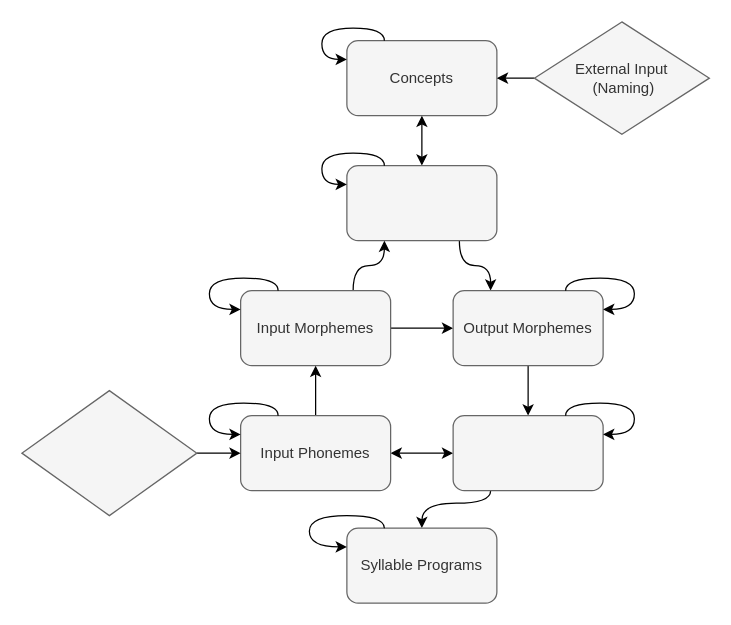
Some shapes in this 731 by 625 pixel diagram are drawn without their labels. Here are the shapes that lost their labels. From the top down, the centre of each, then its label:
At point (421, 202): "Lemmas".
At point (109, 452): "External Input (Comprehension and Repetition)".
At point (527, 452): "Output Phonemes".
